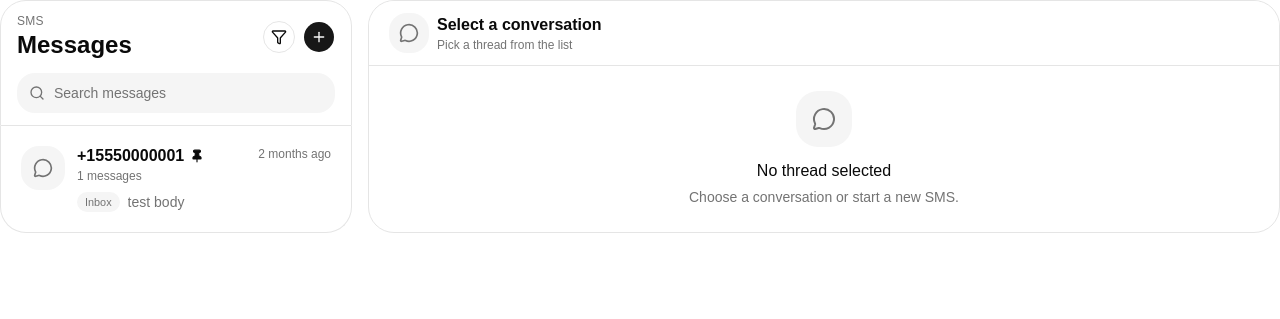
Scenario: MessageConsole context menus › announces pinned conversations and favorited messages
Click the button "+15550000001" at {"x": 43, "y": 168}, box top-left (9, 134), bottom-right (343, 224)
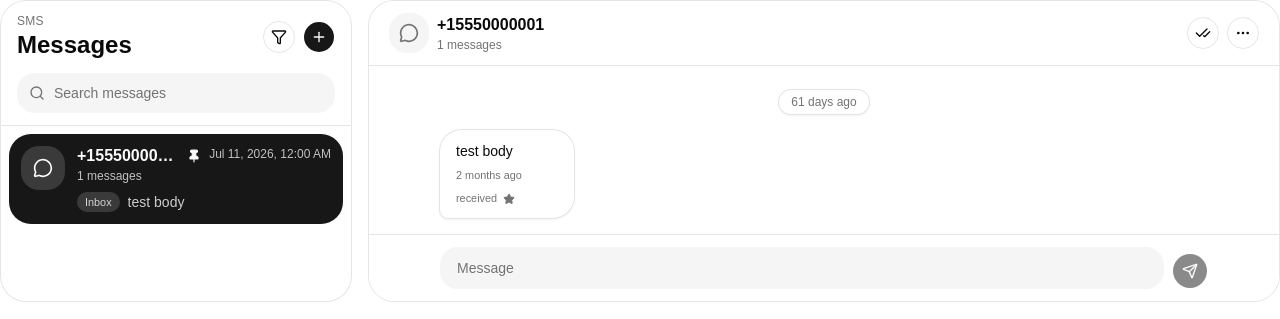
Now the button that starts with "test body" is shown, box top-left (440, 130), bottom-right (603, 218)
